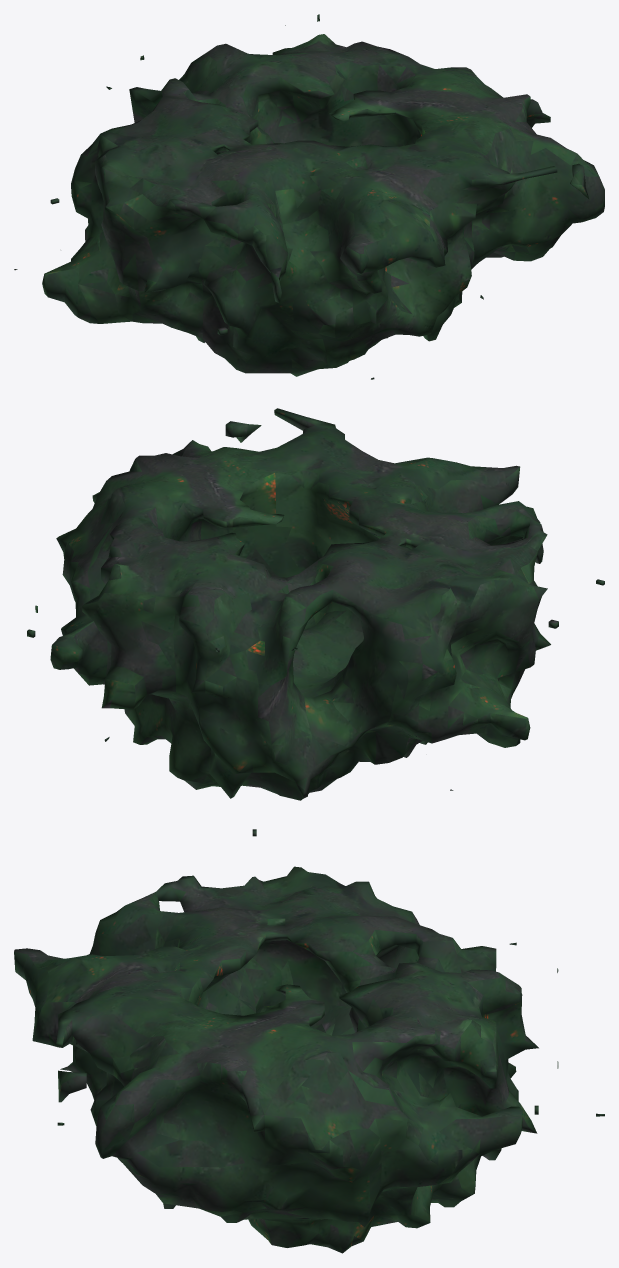
Rendered from thicket.glb.
The picture shows the model from 3 angles, top to bottom: view 1: azimuth 30°, elevation 25°; view 2: azimuth 150°, elevation 25°; view 3: azimuth 270°, elevation 25°; orthographic projection. The views are drawn at different scales.
Visible parts, largest first — view 1: THICKET; view 2: THICKET; view 3: THICKET.
Boxes of the visible parts, bbox=[...] form: THICKET: bbox=[14, 14, 604, 379]; THICKET: bbox=[27, 408, 604, 800]; THICKET: bbox=[14, 829, 604, 1253].
Size of the model in its own units: 2.62 by 1.17 by 2.51.
1 material, 1 textured.
